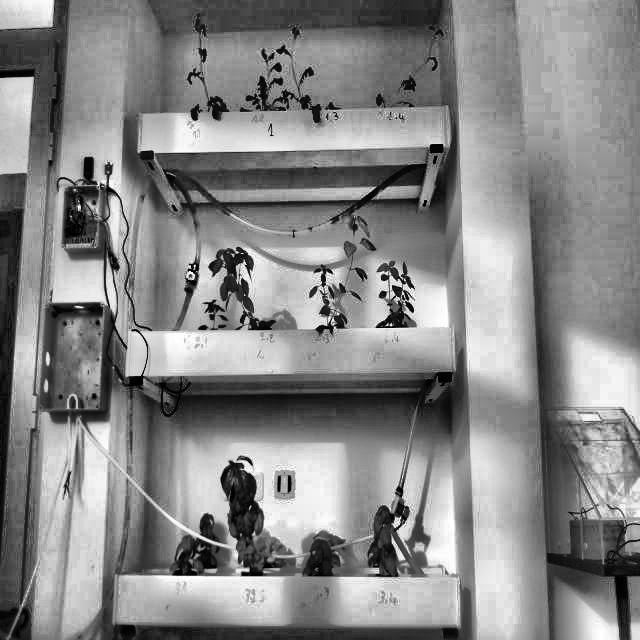plants: (323, 208, 378, 331), (218, 455, 273, 574), (368, 26, 446, 108), (205, 244, 277, 330), (181, 12, 234, 118), (278, 36, 341, 112), (236, 44, 288, 114), (374, 258, 414, 328), (308, 263, 345, 332), (370, 503, 401, 577), (302, 532, 344, 576), (196, 514, 220, 572), (198, 298, 229, 332), (174, 535, 200, 575)
